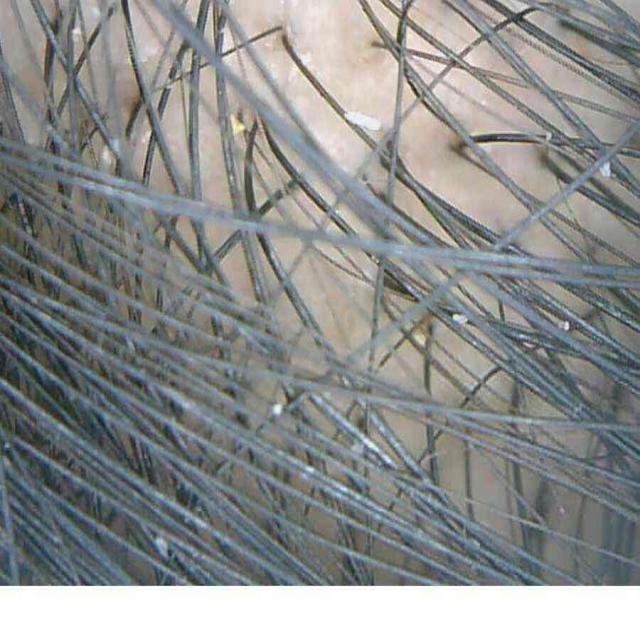d: (345, 111, 381, 132), (452, 313, 468, 325), (599, 161, 610, 177)
